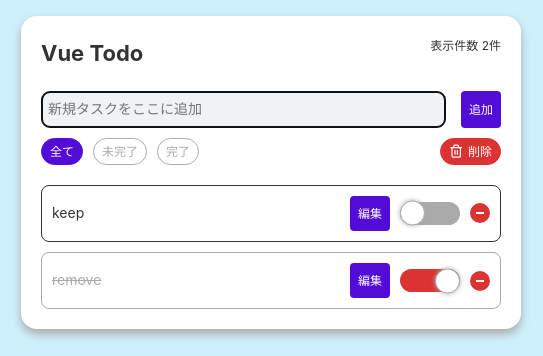
TodoTemplate › deletes finished items from the list
This screenshot has width=543, height=356.
Click the button with aria-label "all-delete" at [470, 151], box left=440, top=138, right=501, bottom=165
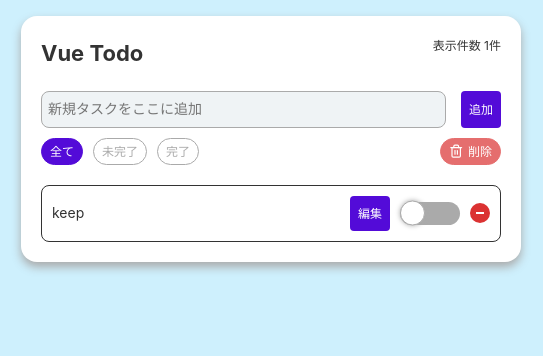
Expected: the text "keep" is shown, left=52, top=204, right=84, bottom=221
Expected: the text "remove" is gone
